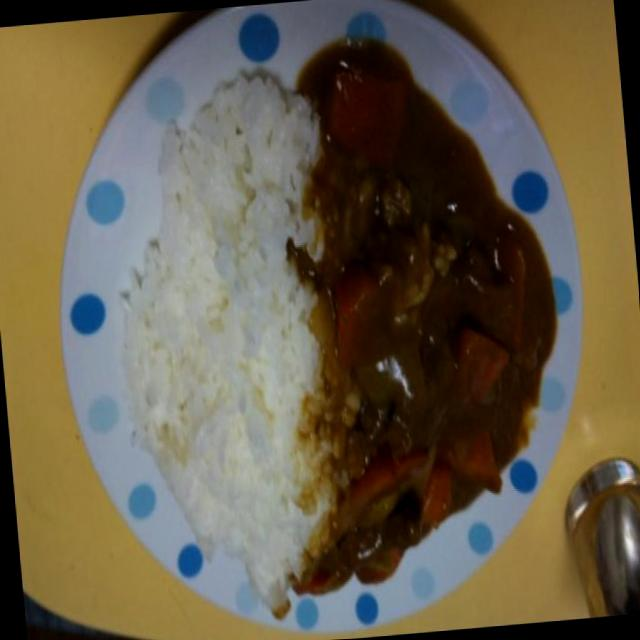Beef Curry: (277, 30, 536, 583)
Rice: (94, 72, 328, 612)
